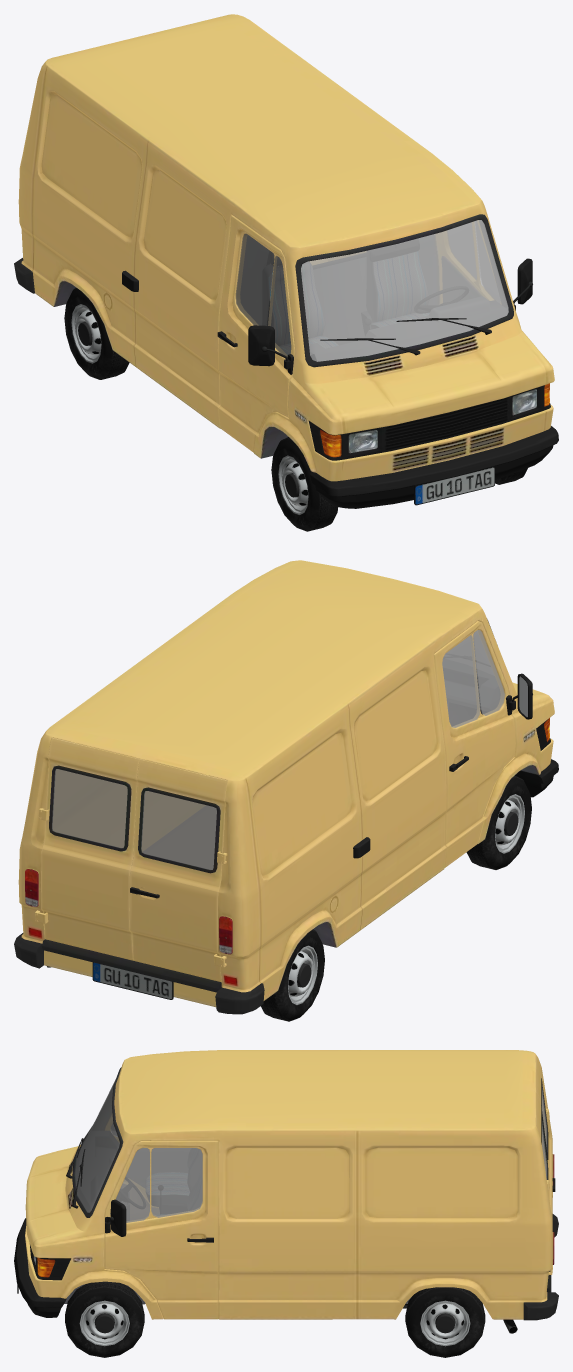
Rendered from van.glb.
3 renders of one model, top to bottom at view 1: azimuth 30°, elevation 25°; view 2: azimuth 150°, elevation 25°; view 3: azimuth 270°, elevation 25°, orthographic. The views are drawn at different scales.
Visible parts, largest first — view 1: ignition_ply_van_european_delivery_body_shd_0, glass_windshield_ply_van_european_delivery_glass_shd_0, bumper_front_ply_van_european_delivery_trim_shd_0, wheel_front_ply_van_european_delivery_wheels_shd_0; view 2: ignition_ply_van_european_delivery_body_shd_0, glass_windshield_ply_van_european_delivery_glass_shd_0, wheel_front_ply_van_european_delivery_wheels_shd_0, bumper_front_ply_van_european_delivery_trim_shd_0; view 3: ignition_ply_van_european_delivery_body_shd_0, wheel_front_ply_van_european_delivery_wheels_shd_0, glass_windshield_ply_van_european_delivery_glass_shd_0, bumper_front_ply_van_european_delivery_trim_shd_0.
Part boxes in pixels (x1,y1,x2,y2): ignition_ply_van_european_delivery_body_shd_0: [14, 14, 554, 481]; glass_windshield_ply_van_european_delivery_glass_shd_0: [235, 220, 508, 361]; bumper_front_ply_van_european_delivery_trim_shd_0: [122, 239, 558, 508]; wheel_front_ply_van_european_delivery_wheels_shd_0: [64, 288, 527, 531]; ignition_ply_van_european_delivery_body_shd_0: [14, 560, 554, 1014]; glass_windshield_ply_van_european_delivery_glass_shd_0: [52, 630, 505, 869]; wheel_front_ply_van_european_delivery_wheels_shd_0: [261, 775, 531, 1021]; bumper_front_ply_van_european_delivery_trim_shd_0: [92, 673, 558, 999]; ignition_ply_van_european_delivery_body_shd_0: [25, 1050, 558, 1320]; wheel_front_ply_van_european_delivery_wheels_shd_0: [65, 1281, 485, 1357]; glass_windshield_ply_van_european_delivery_glass_shd_0: [74, 1079, 547, 1222]; bumper_front_ply_van_european_delivery_trim_shd_0: [14, 1126, 555, 1317].
Bounding box in the file's own units: 2.66 × 2.51 × 5.37.
5 materials, 4 textured.
